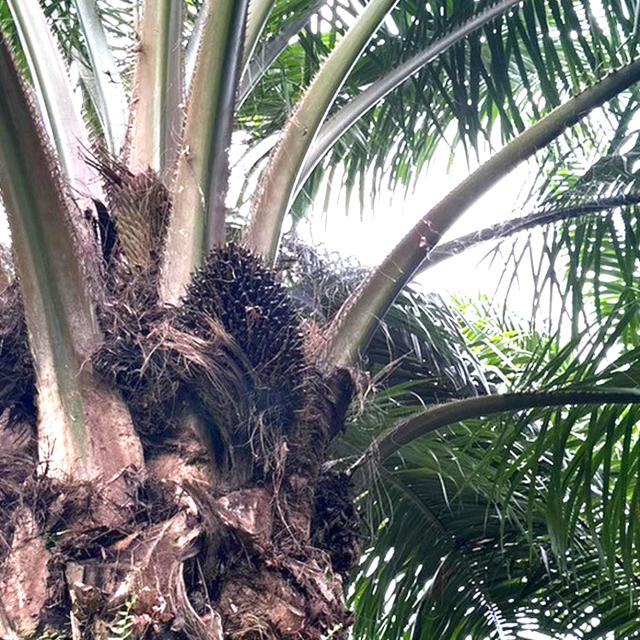unripe: (171, 235, 320, 419)
